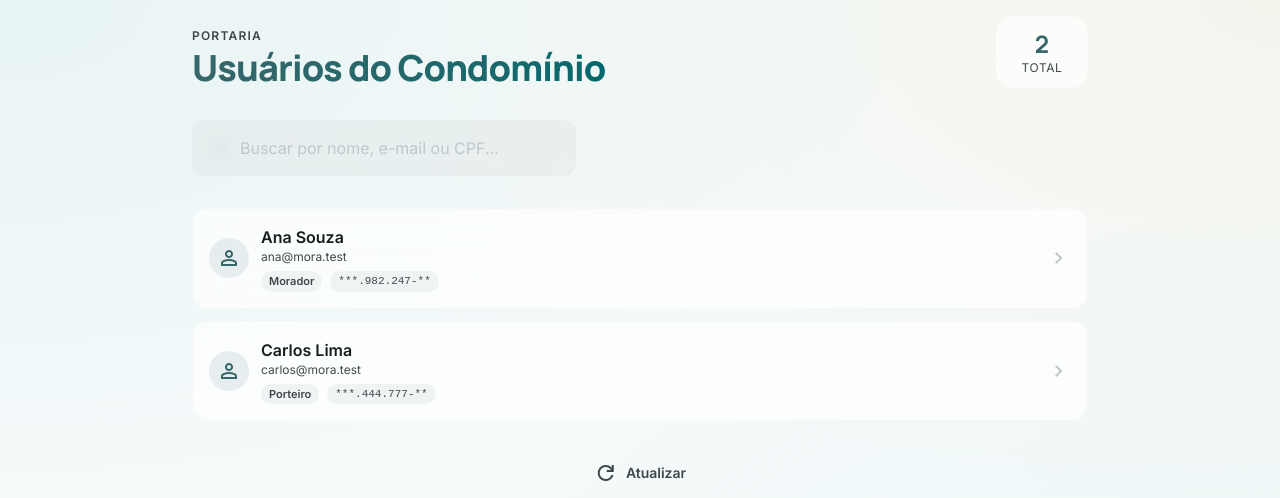
Test: UsuariosCondominio › busca sem resultado é diferente de lista vazia
The image size is (1280, 498).
Expected: the text "Ana Souza" is shown, [261,227,344,247]
Step 1. Type "zzzzz" into the field with placeholder "Buscar por nome, e-mail ou CPF..." → (384, 148), box [192,120,576,176]
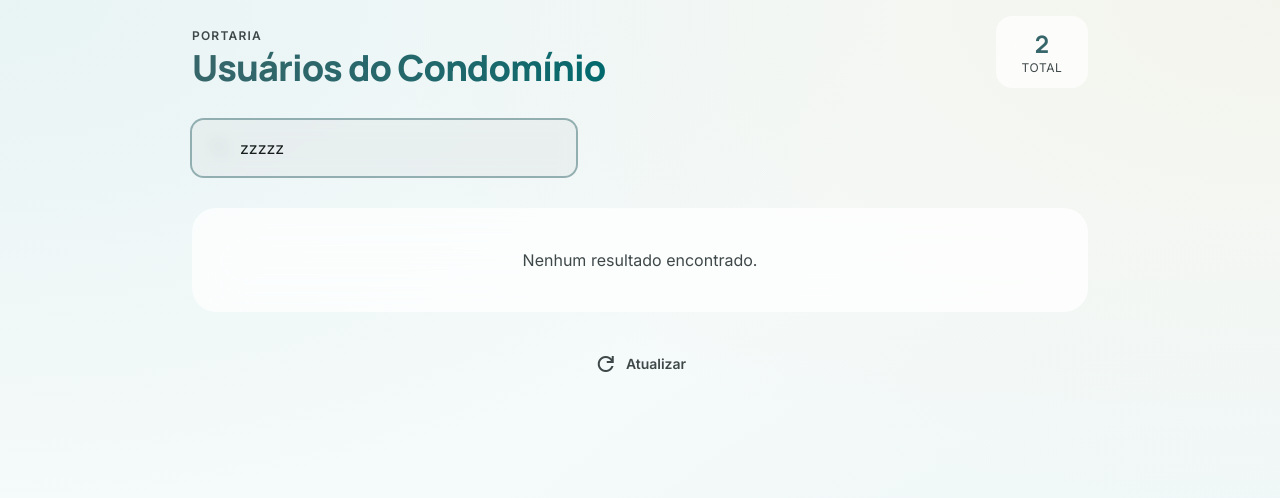
Expected: the text "Nenhum resultado encontrado." is shown, [192,208,1088,312]
